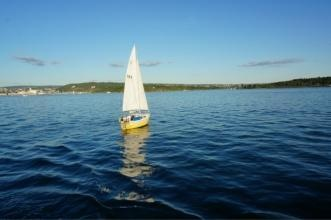fanchuan: (116, 41, 154, 134)
